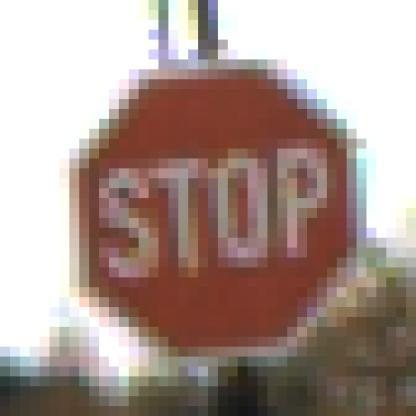Stop: (75, 63, 360, 356)
